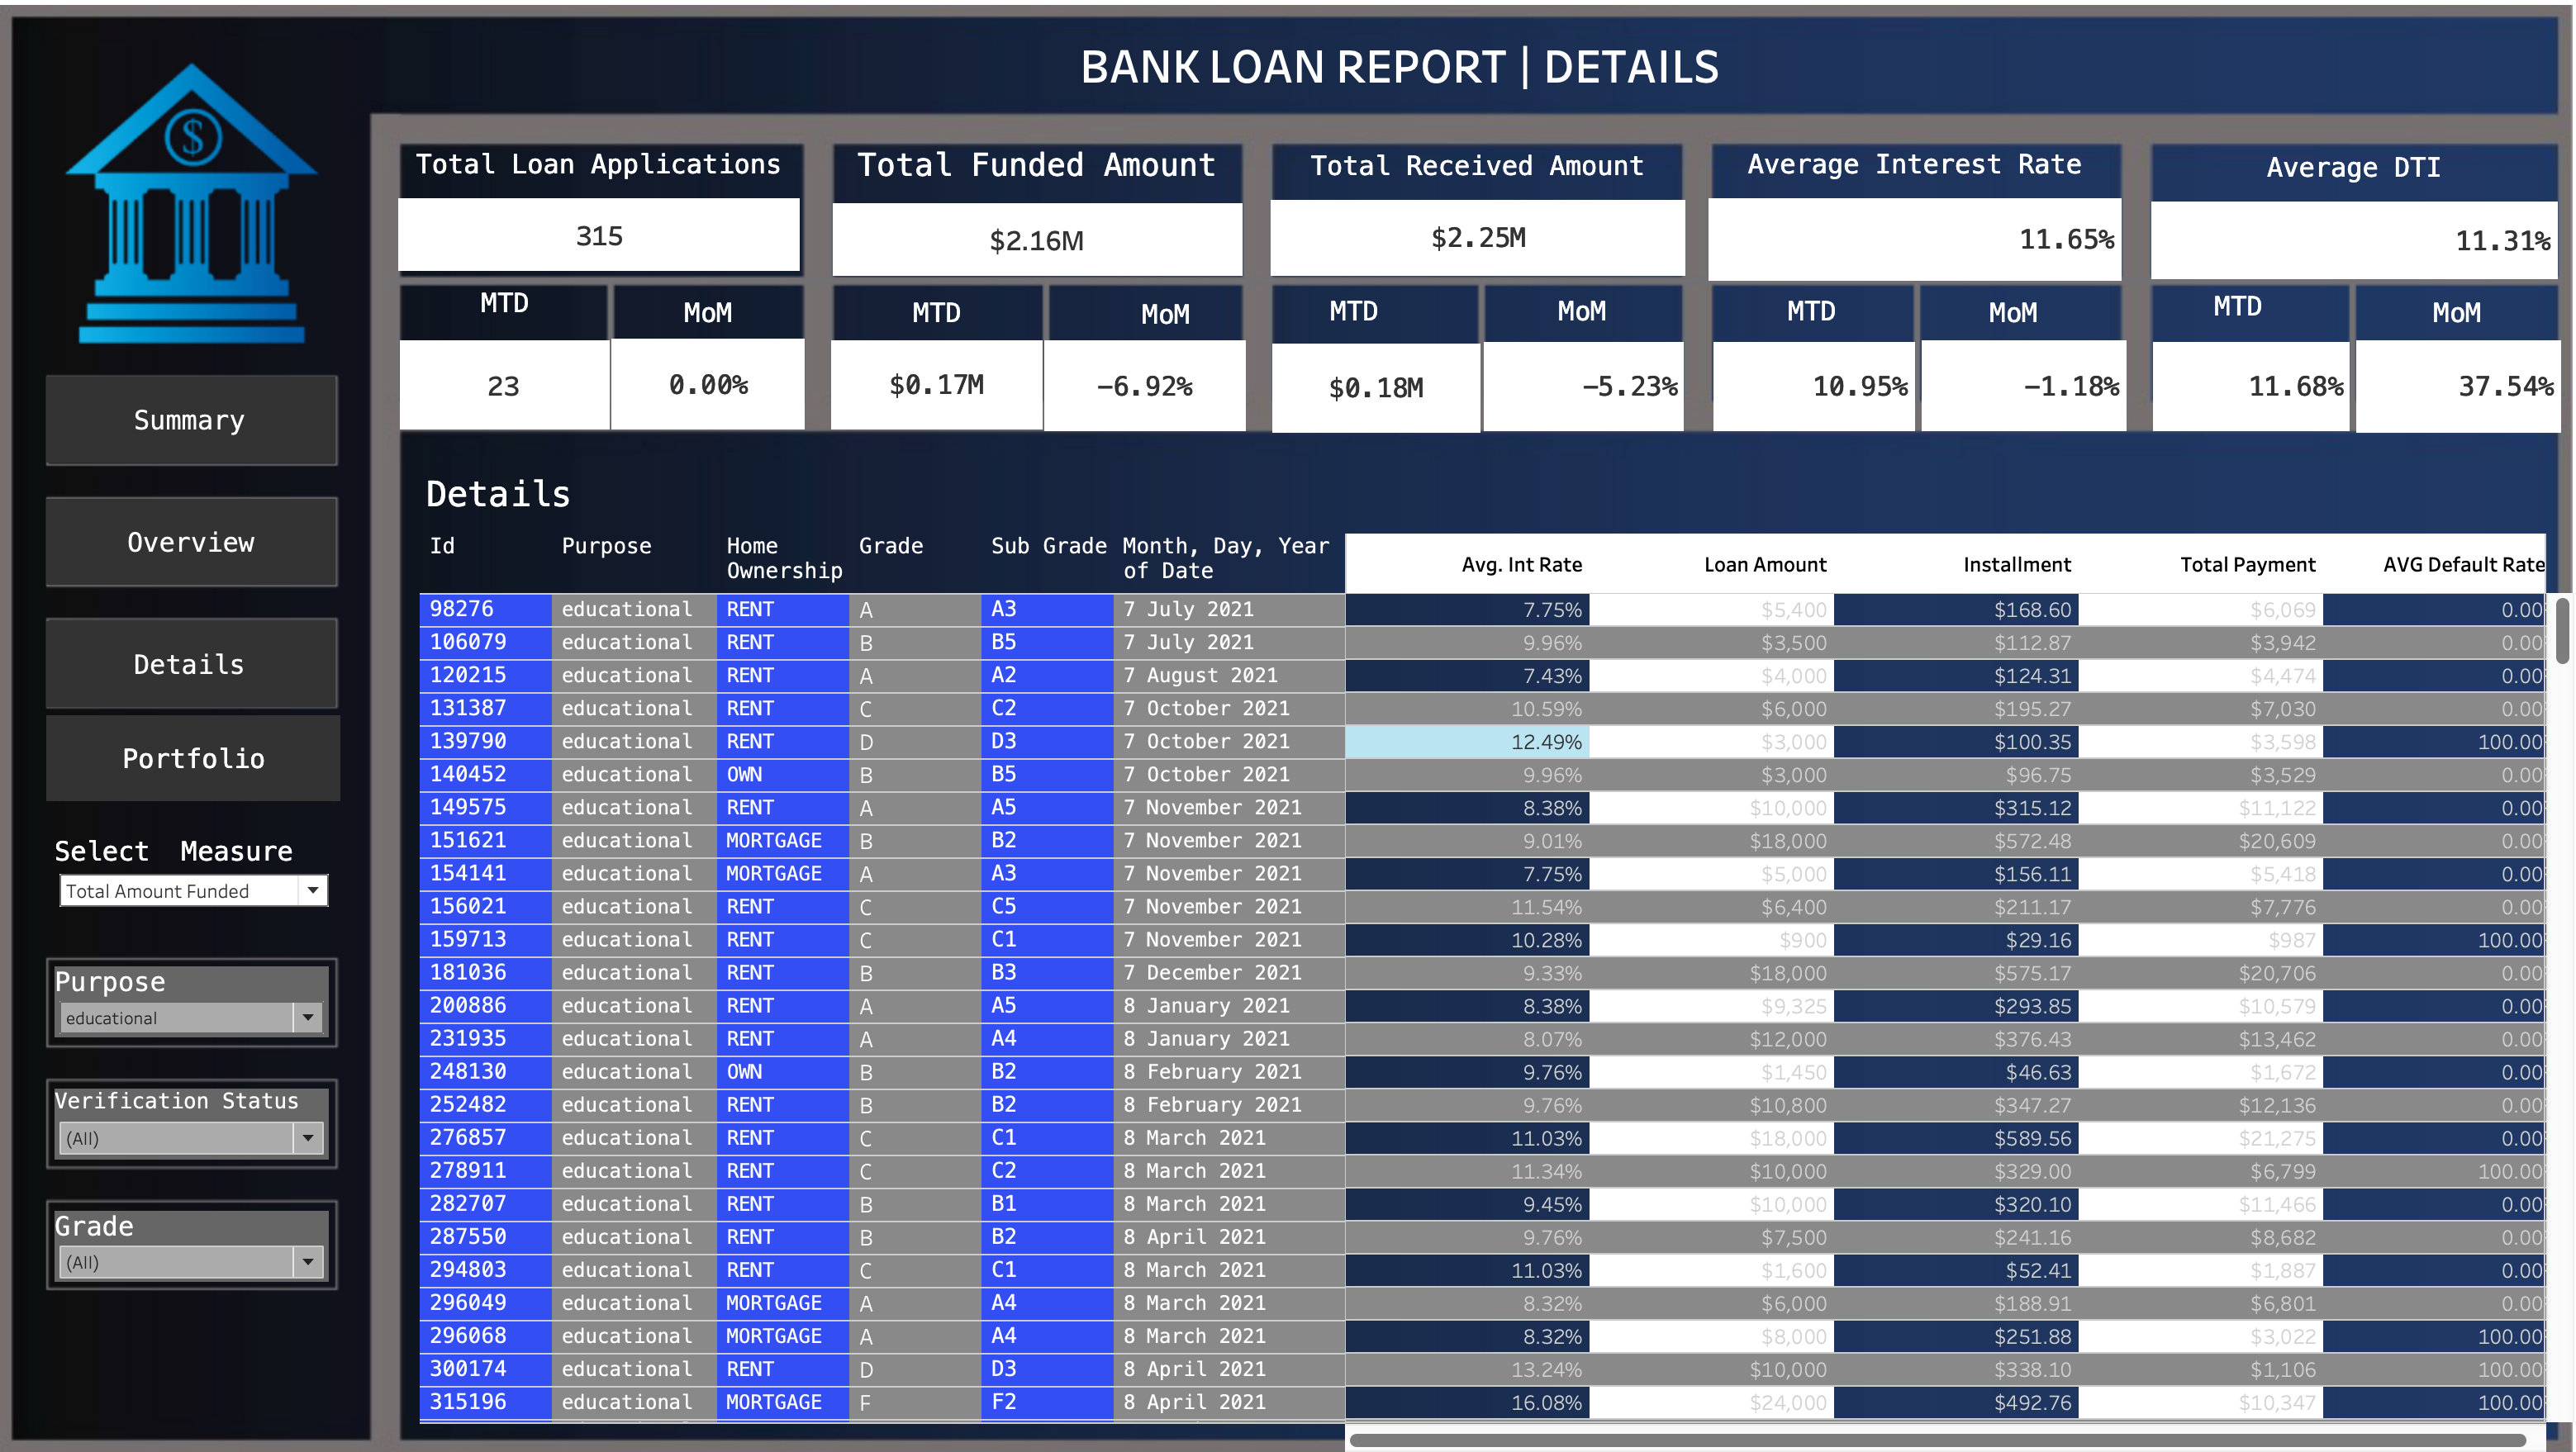

The dashboard page shown, as its layout file describes it:
{"tool":"tableau","page":{"name":"BANK LOAN DETAILS","canvas":[1600,900],"ordinal":0},"visuals":[{"type":"image","param":"Image/summary-01.jpg","box":[8,8,1584,884]},{"type":"text","box":[384,33,969,30]},{"type":"worksheet","title":"Total Funded Amount","mark":"Automatic","box":[525,94,248,82]},{"type":"worksheet","title":"Total Loan Applications","mark":"Automatic","box":[262,95,243,78]},{"type":"worksheet","title":"Average Interest Rate","mark":"Automatic","box":[1055,95,250,84]},{"type":"worksheet","title":"Total Received Amount","mark":"Automatic","box":[790,96,251,80]},{"type":"worksheet","title":"Average DTI","mark":"Automatic","box":[1323,97,246,81]},{"type":"text","box":[263,172,128,42]},{"type":"text","box":[1326,180,100,30]},{"type":"text","box":[791,183,100,30]},{"type":"text","box":[929,183,100,30]},{"type":"text","box":[1068,183,100,30]},{"type":"text","box":[392.3,183.1,115.6,31.2]},{"type":"text","box":[525,184,127,30]},{"type":"text","box":[1190,184,100,30]},{"type":"text","box":[1447,184,123,30]},{"type":"text","box":[677,185,100,30]},{"type":"worksheet","title":"MoM Total Loan Applications","mark":"Automatic","box":[391,214,117,55]},{"type":"worksheet","title":"MTD Loan Applications","mark":"Automatic","box":[263,215,127,54]},{"type":"worksheet","title":"MTD Total Funded Amount","mark":"Automatic","box":[524,215,128,54]},{"type":"worksheet","title":"MoM Total Funded Amount","mark":"Automatic","box":[653,215,122,55]},{"type":"worksheet","title":"MoM Average Interest Rate","mark":"Automatic","box":[1184,215,124,55]},{"type":"worksheet","title":"MoM Average DTI","mark":"Automatic","box":[1447,215,124,56]},{"type":"worksheet","title":"MoM Total Received Amount","mark":"Automatic","box":[919,216,121,54]},{"type":"worksheet","title":"MTD Average Interest Rate","mark":"Automatic","box":[1058,216,122,54]},{"type":"worksheet","title":"MTD Average DTI","mark":"Automatic","box":[1324,216,119,54]},{"type":"worksheet","title":"MTD Total Received Amount","mark":"Automatic","box":[791,217,126,54]},{"type":"dashboard-object","box":[49,237,175,52]},{"type":"worksheet","title":"Details ","mark":"Automatic","rows":["id","purpose","home_ownership","grade","sub_grade","Calculation_204843477926084608"],"box":[275,292,1304,596]},{"type":"dashboard-object","box":[49,311,175,52]},{"type":"dashboard-object","box":[49,385,175,52]},{"type":"dashboard-object","box":[49,442,178,52]},{"type":"parameter","param":"[Parameters].[Parameter 1]","box":[50,511,177,61]},{"type":"filter","title":"Average DTI","param":"[federated.12kh4dk13x4zyx0zkb6am0r0stkr].[none:purpose:nk]","box":[50,590,174,51]},{"type":"filter","title":"Average DTI","param":"[federated.12kh4dk13x4zyx0zkb6am0r0stkr].[none:verification_status:nk]","box":[50,664,174,51]},{"type":"filter","title":"Average DTI","param":"[federated.12kh4dk13x4zyx0zkb6am0r0stkr].[none:grade:nk]","box":[50,738,174,51]}]}

Visuals, with their boxes in screenshot pixels (x1, y1, x2, y2), scaled from the page's 1600x900 canvas onto the 2576x1452 screenshot:
image: [x1=13, y1=13, x2=2563, y2=1439]
text: [x1=618, y1=53, x2=2179, y2=102]
"Total Funded Amount" worksheet: [x1=845, y1=152, x2=1244, y2=284]
"Total Loan Applications" worksheet: [x1=422, y1=154, x2=813, y2=279]
"Average Interest Rate" worksheet: [x1=1699, y1=154, x2=2101, y2=289]
"Total Received Amount" worksheet: [x1=1272, y1=155, x2=1676, y2=284]
"Average DTI" worksheet: [x1=2130, y1=156, x2=2526, y2=287]
text: [x1=424, y1=278, x2=630, y2=345]
text: [x1=2135, y1=291, x2=2296, y2=339]
text: [x1=1273, y1=295, x2=1434, y2=344]
text: [x1=1495, y1=295, x2=1656, y2=344]
text: [x1=1719, y1=295, x2=1880, y2=344]
text: [x1=631, y1=296, x2=818, y2=346]
text: [x1=845, y1=297, x2=1050, y2=345]
text: [x1=1916, y1=297, x2=2077, y2=345]
text: [x1=2330, y1=297, x2=2528, y2=345]
text: [x1=1090, y1=298, x2=1251, y2=347]
"MoM Total Loan Applications" worksheet: [x1=630, y1=345, x2=818, y2=434]
"MTD Loan Applications" worksheet: [x1=424, y1=347, x2=628, y2=434]
"MTD Total Funded Amount" worksheet: [x1=844, y1=347, x2=1050, y2=434]
"MoM Total Funded Amount" worksheet: [x1=1052, y1=347, x2=1248, y2=435]
"MoM Average Interest Rate" worksheet: [x1=1906, y1=347, x2=2106, y2=435]
"MoM Average DTI" worksheet: [x1=2330, y1=347, x2=2529, y2=437]
"MoM Total Received Amount" worksheet: [x1=1480, y1=349, x2=1675, y2=435]
"MTD Average Interest Rate" worksheet: [x1=1704, y1=349, x2=1900, y2=435]
"MTD Average DTI" worksheet: [x1=2132, y1=349, x2=2323, y2=435]
"MTD Total Received Amount" worksheet: [x1=1273, y1=350, x2=1476, y2=437]
dashboard-object: [x1=78, y1=382, x2=361, y2=467]
"Details " worksheet: [x1=443, y1=471, x2=2542, y2=1433]
dashboard-object: [x1=78, y1=501, x2=361, y2=586]
dashboard-object: [x1=78, y1=621, x2=361, y2=705]
dashboard-object: [x1=78, y1=713, x2=365, y2=797]
parameter: [x1=80, y1=824, x2=365, y2=923]
"Average DTI" filter: [x1=80, y1=951, x2=361, y2=1034]
"Average DTI" filter: [x1=80, y1=1071, x2=361, y2=1154]
"Average DTI" filter: [x1=80, y1=1191, x2=361, y2=1273]
